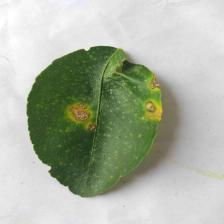canker: (58, 68, 168, 143)
